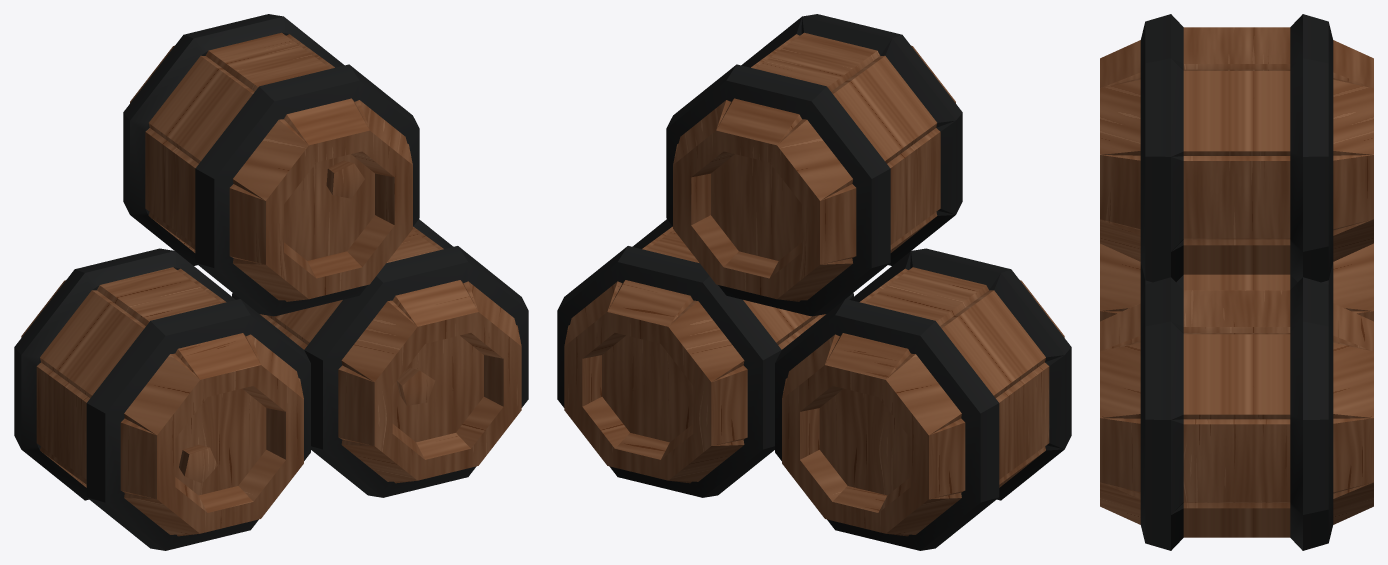
File: barrel_small_stack.gltf
The picture shows the model from 3 angles, left to right: view 1: azimuth 30°, elevation 25°; view 2: azimuth 150°, elevation 25°; view 3: azimuth 270°, elevation 25°; orthographic projection.
Visible parts, largest first — view 1: barrel_small_stack; view 2: barrel_small_stack; view 3: barrel_small_stack.
Boxes of the visible parts, x1=… form: barrel_small_stack: x1=14, y1=14, x2=528, y2=550; barrel_small_stack: x1=557, y1=14, x2=1071, y2=550; barrel_small_stack: x1=1100, y1=14, x2=1373, y2=550.
Bounding box in the file's own units: 1.85 × 1.77 × 1.
2 materials, 1 textured.
